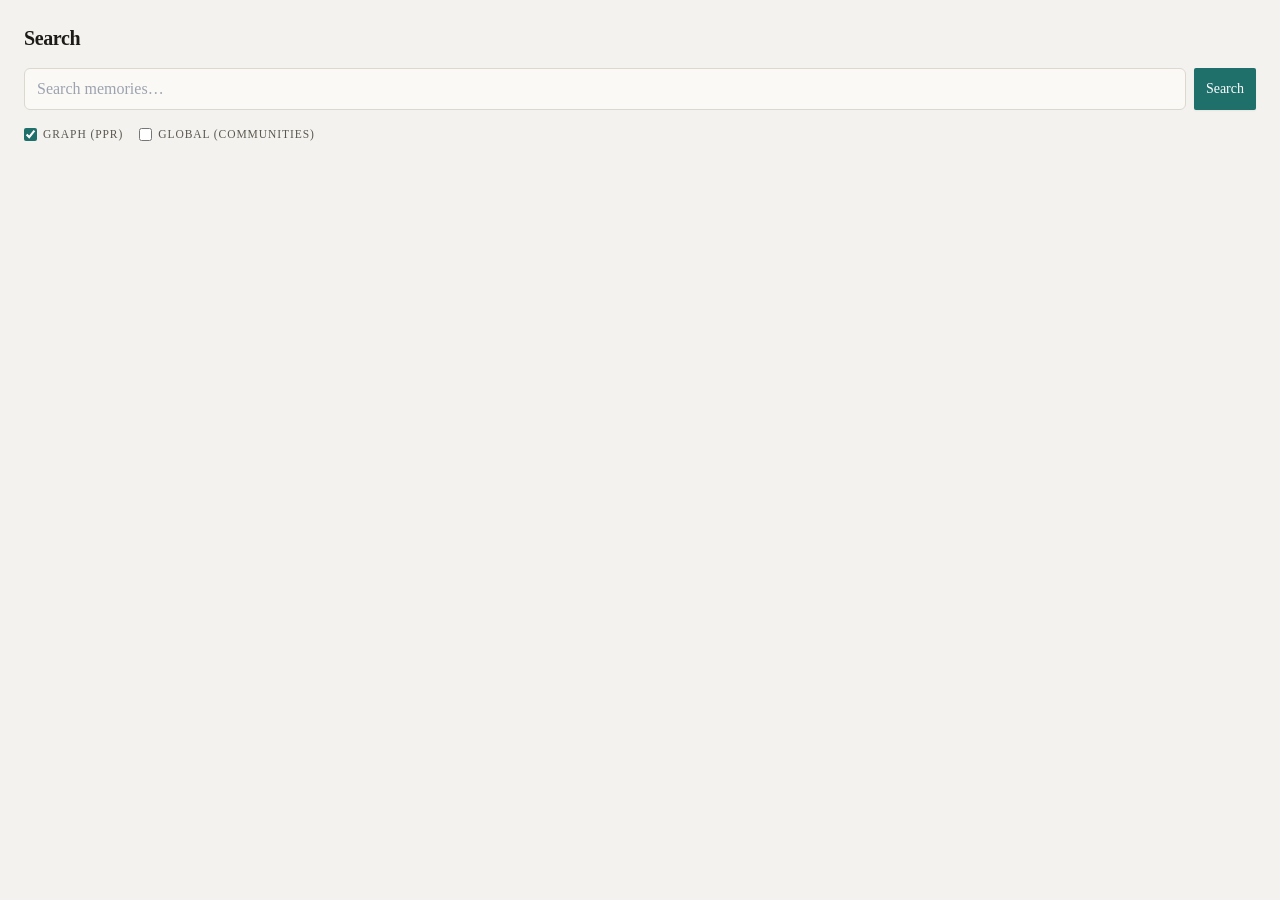
Test: runs a search and shows a result with rank bars
This screenshot has width=1280, height=900.
In the field with placeholder "Search memories…": (605, 89) [24,68,1186,110], type "rust"
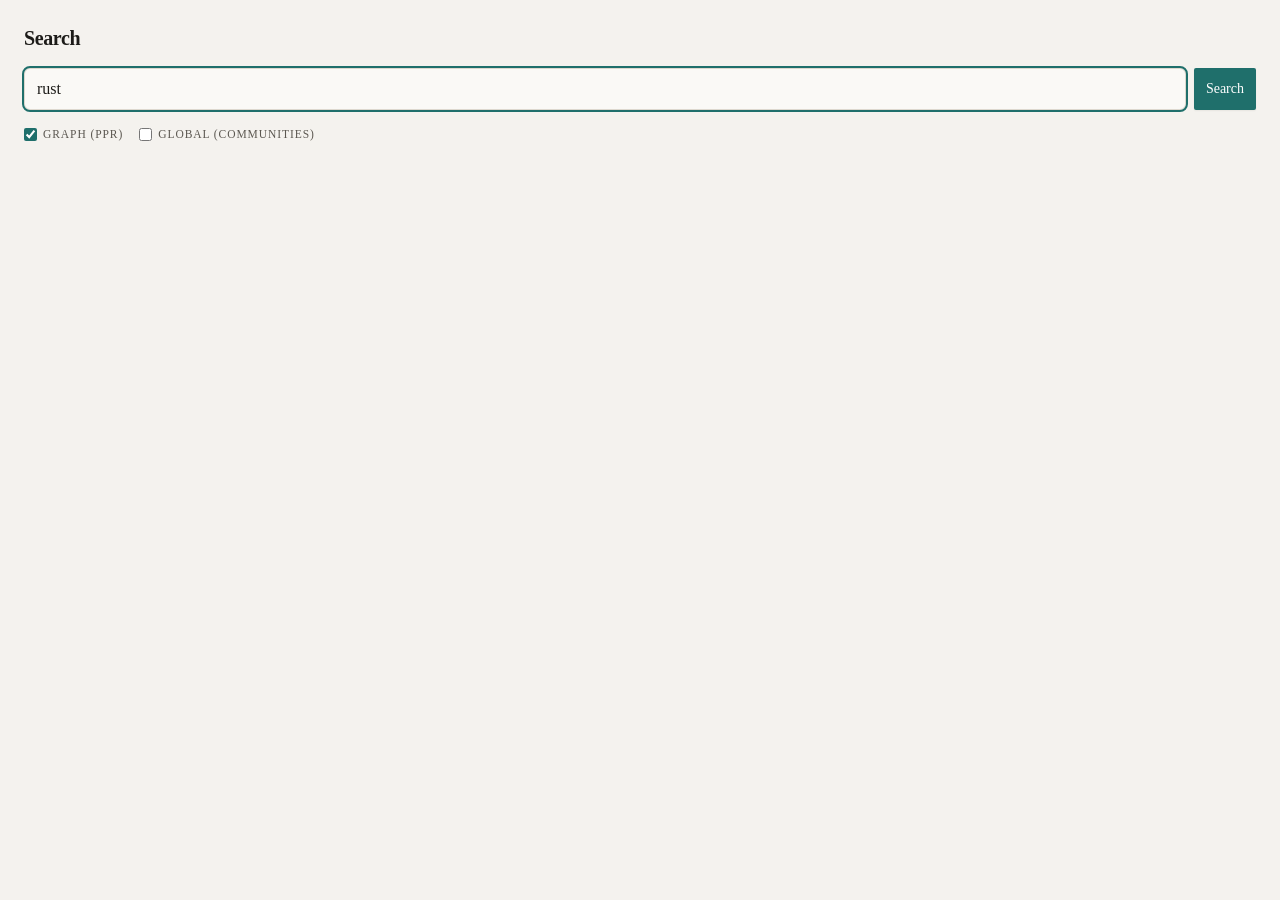
Click the button "Search": (1225, 89) [1194,68,1256,110]
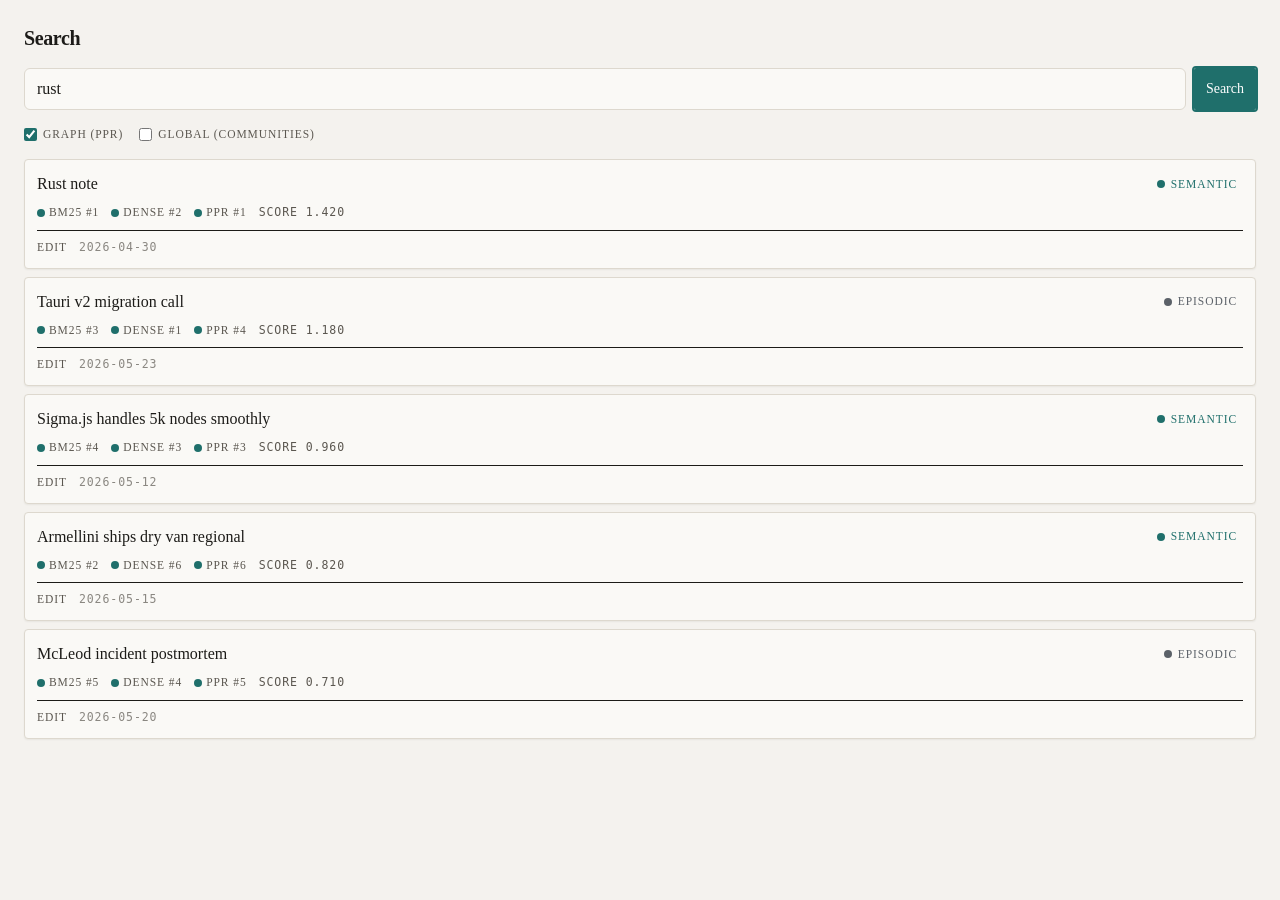
expect the text "graph (PPR)" is shown: met, box [24,126,123,143]
expect the text "Rust note" is shown: met, box [37,172,98,196]
